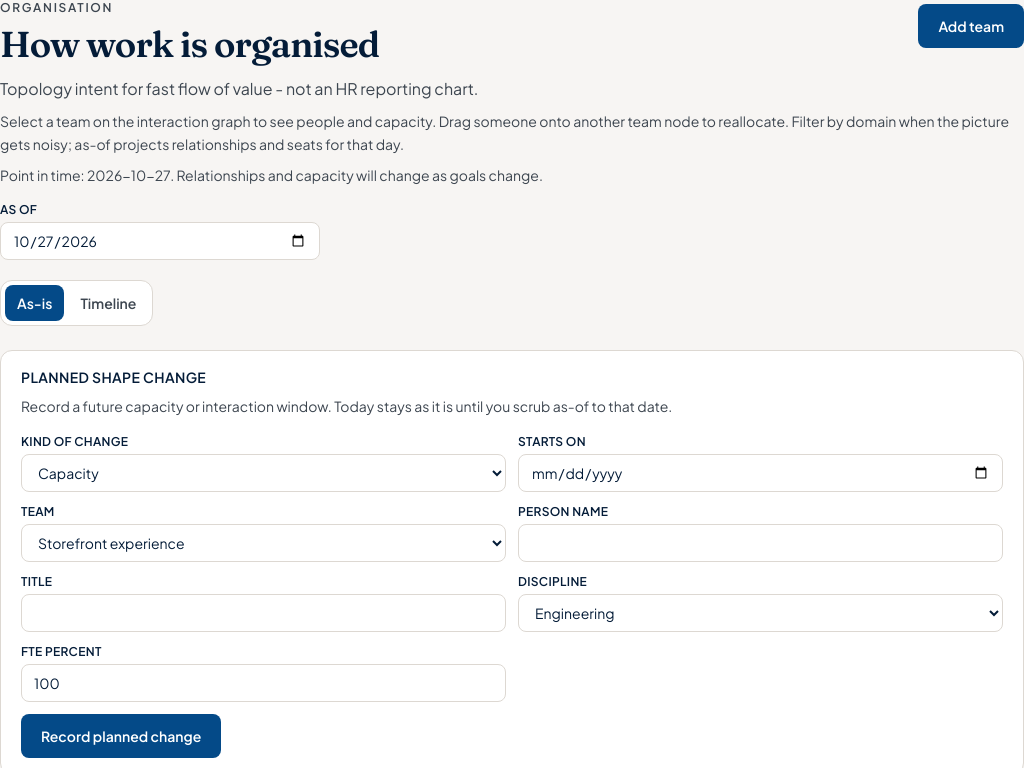
Scenario: OrganisationPage › adds a team by display name and type in one dialog
Click the button with test id "organisation-add-team-cta" at [971, 26], box [918, 4, 1023, 48]
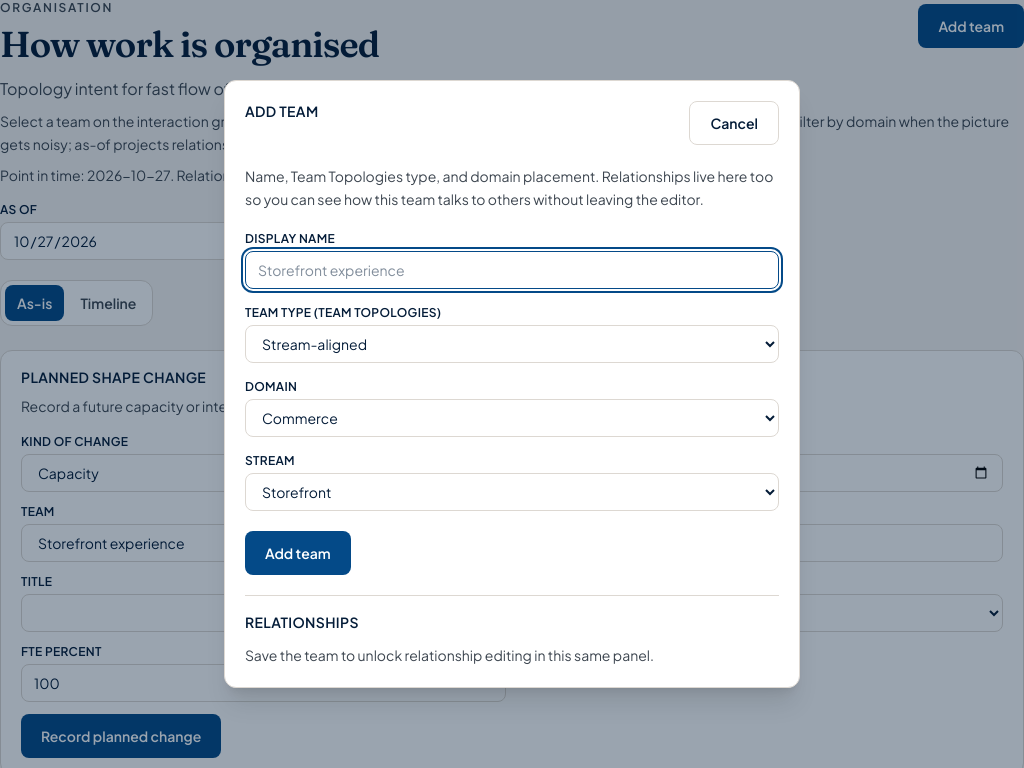
Now the dialog "Add team" is shown, box [224, 80, 800, 688]
Type "Returns desk" into the field labelled "Display name" at [512, 270], box [245, 251, 779, 289]
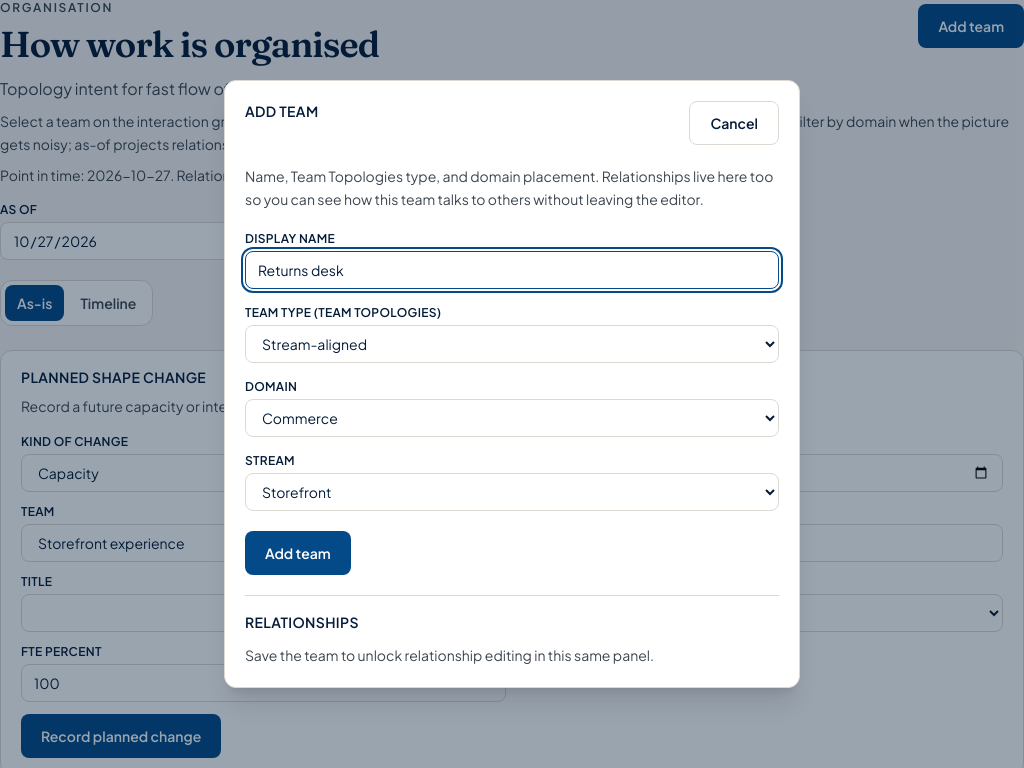
Select "Complicated subsystem" in the dropdown labelled "Team type (Team Topologies)" at [512, 344], box [245, 325, 779, 363]
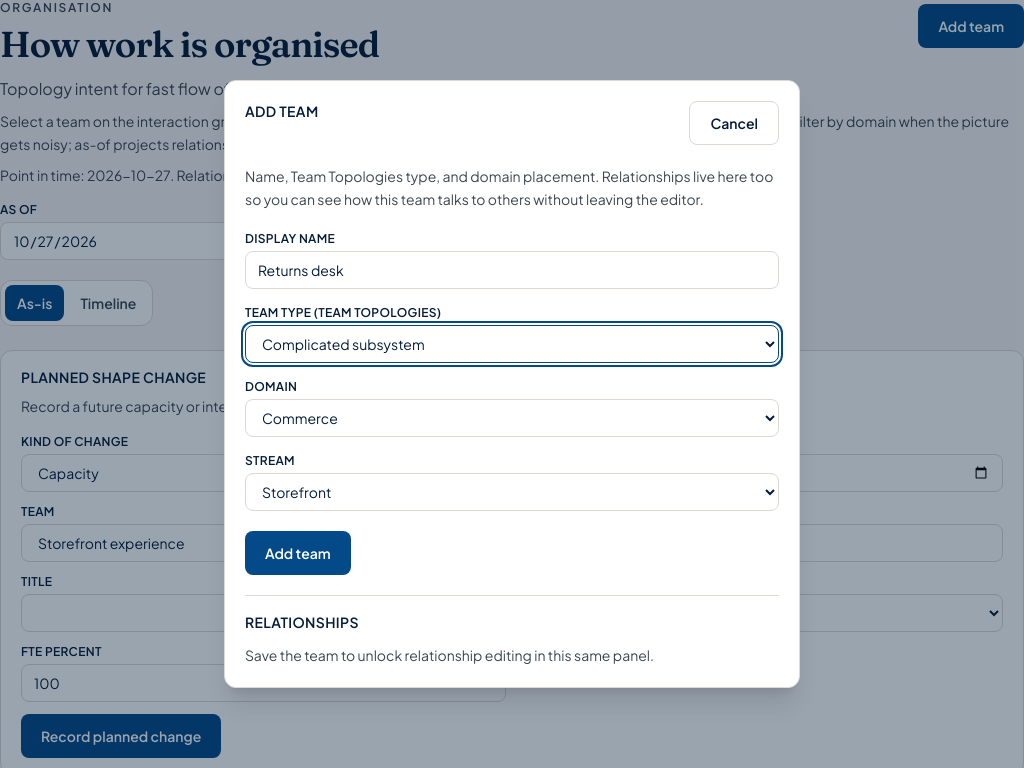
Select "Customer" in the dropdown with test id "organisation-team-modal-domain" at [512, 418], box [245, 399, 779, 437]
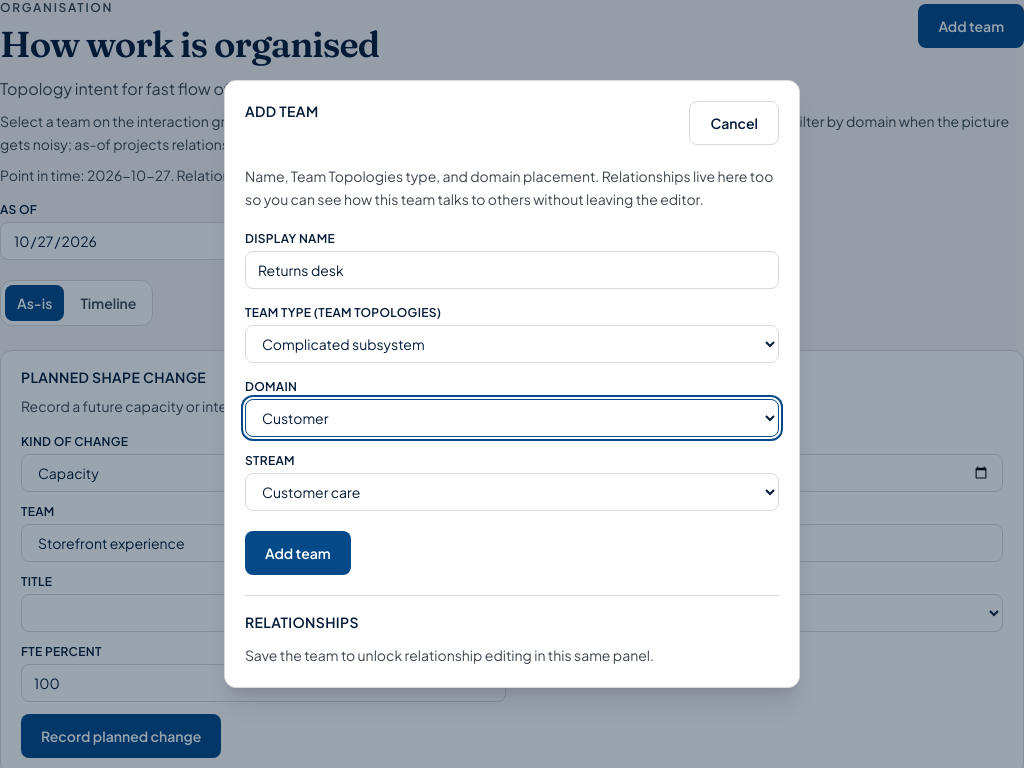
Select "Returns" in the dropdown with test id "organisation-team-modal-stream" at [512, 492], box [245, 473, 779, 511]
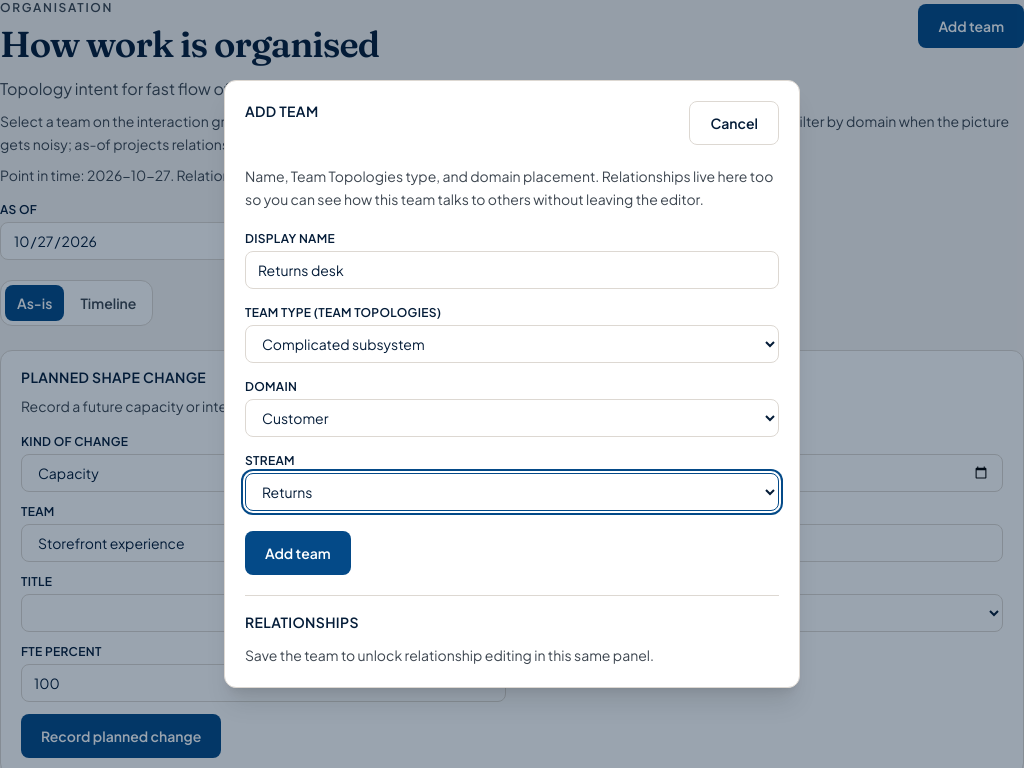
Click the button "Add team" at [298, 553], box [245, 531, 351, 575]
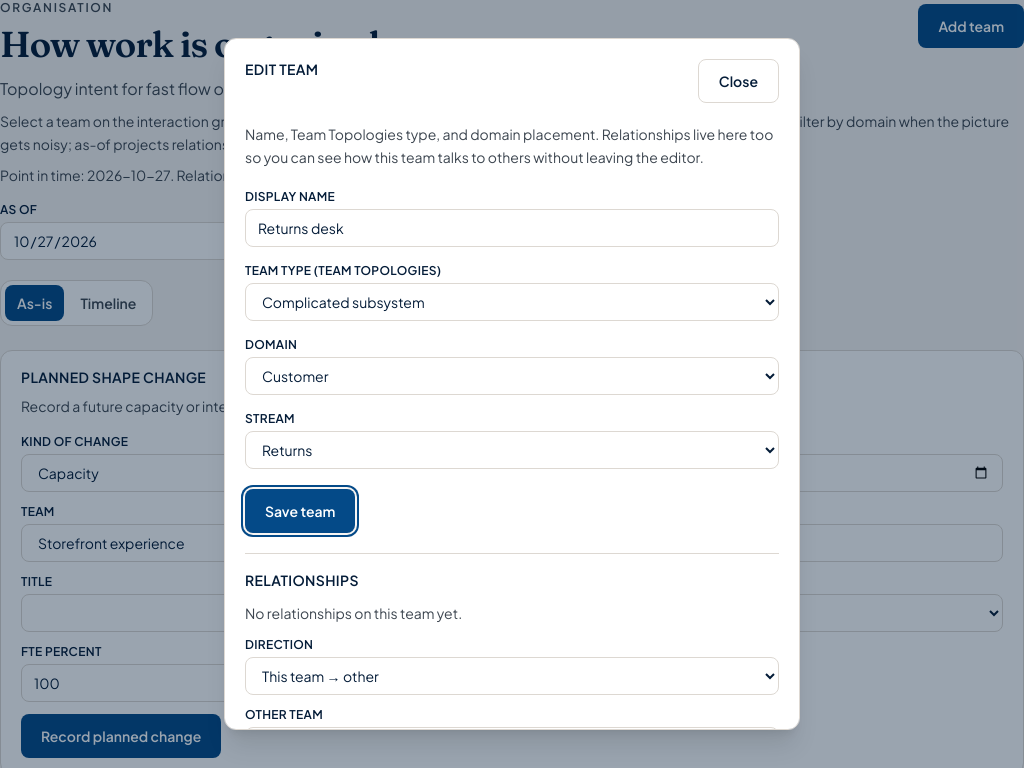
Now the heading "Edit team" is shown, box [245, 59, 318, 79]
